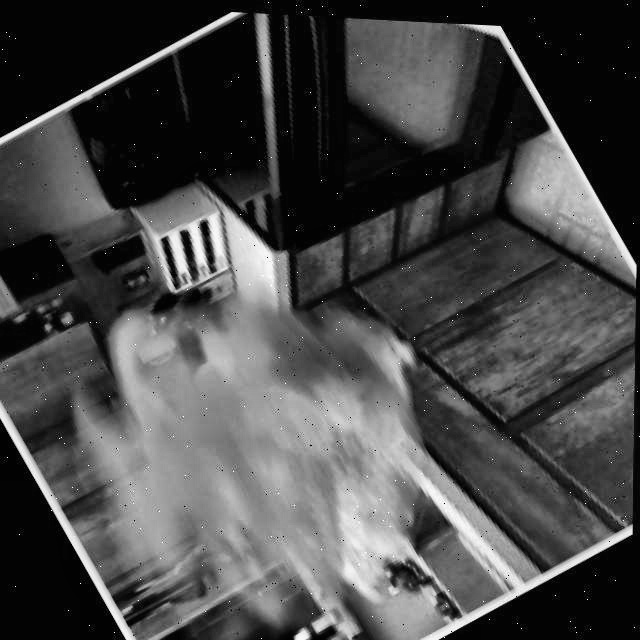Smoke: (8, 190, 528, 640)
